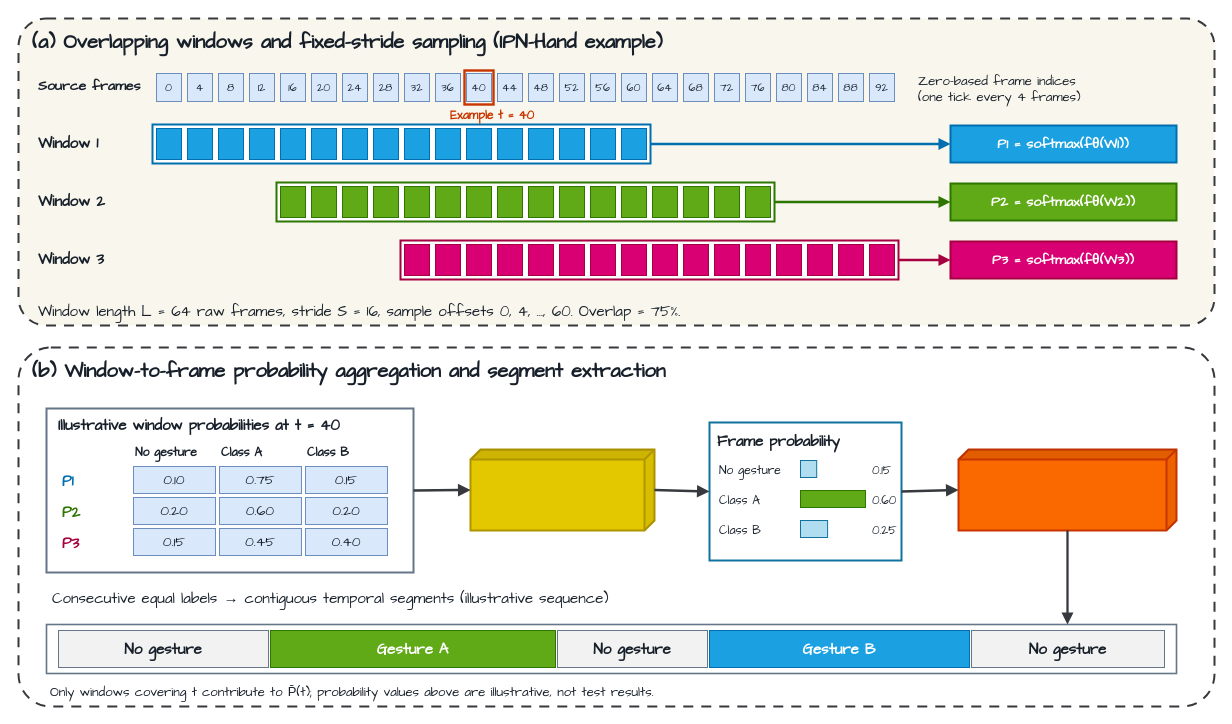
Image size: 1232x724. Some labels were removed from this diagram. The shapes that lost their labels are listed below. From the top down, each one's centre as x and y in pixels, then its label:
At (562,489): "Uniform mean P̄(t) = Σ Pk / 3".
At (1067,489): "Argmax → Class A Frame label at t = 40".
